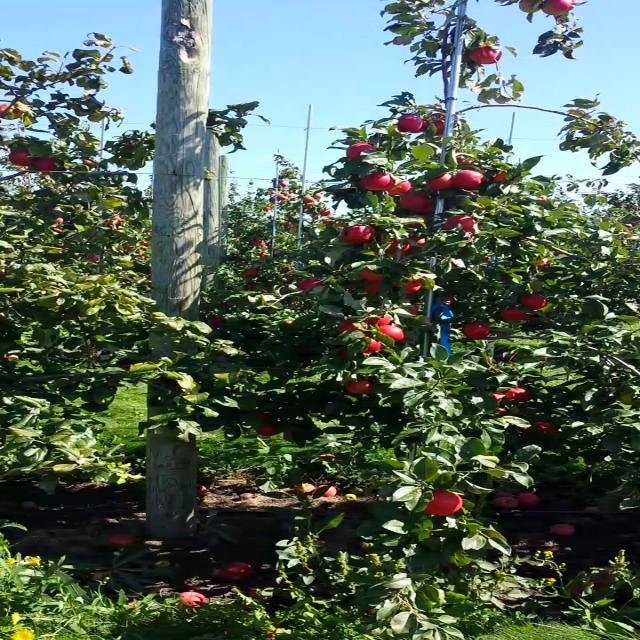apple: (423, 491, 461, 515), (466, 45, 501, 65), (451, 170, 484, 190), (393, 190, 426, 210), (340, 224, 372, 242), (358, 269, 382, 293), (441, 214, 476, 230), (359, 171, 387, 190), (539, 0, 572, 16), (420, 115, 444, 137), (503, 387, 534, 403), (427, 171, 452, 189), (396, 115, 424, 131), (520, 294, 548, 310), (461, 322, 489, 338), (520, 422, 560, 433), (346, 144, 373, 160), (376, 325, 403, 341), (385, 180, 410, 197), (383, 238, 409, 254), (9, 149, 34, 165), (500, 307, 530, 320), (454, 155, 480, 169), (337, 319, 365, 332), (416, 198, 436, 215), (364, 313, 392, 325), (396, 280, 422, 292), (334, 349, 372, 357), (348, 381, 370, 394), (33, 157, 54, 170), (405, 237, 426, 250), (298, 278, 322, 289), (206, 316, 227, 328), (252, 425, 276, 435), (516, 0, 532, 14), (362, 338, 378, 352), (491, 391, 506, 405), (57, 100, 74, 112), (494, 406, 510, 418), (250, 409, 268, 419), (493, 171, 507, 183), (0, 103, 13, 114), (536, 256, 549, 266), (442, 295, 458, 303)
